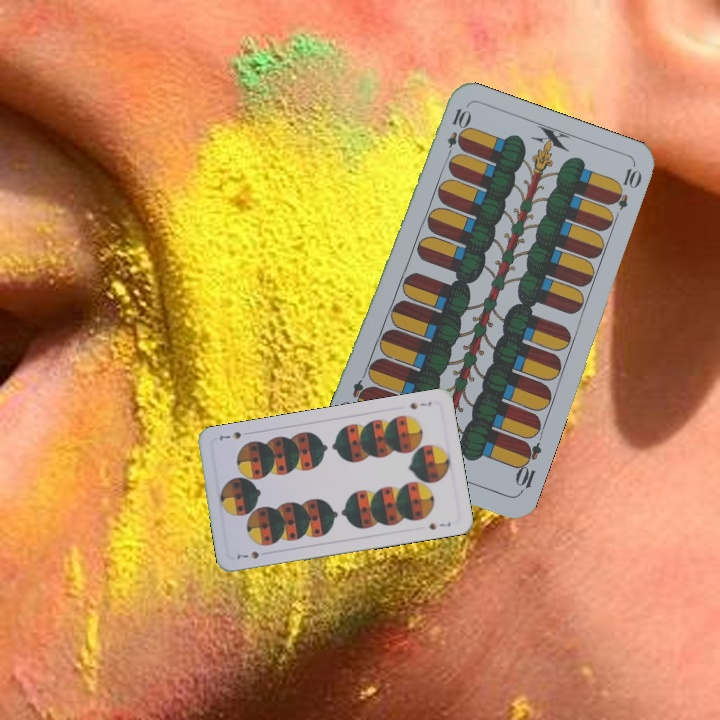E10: (511, 437, 544, 496), (442, 104, 471, 163)
S7: (231, 547, 262, 562), (406, 397, 434, 412)
